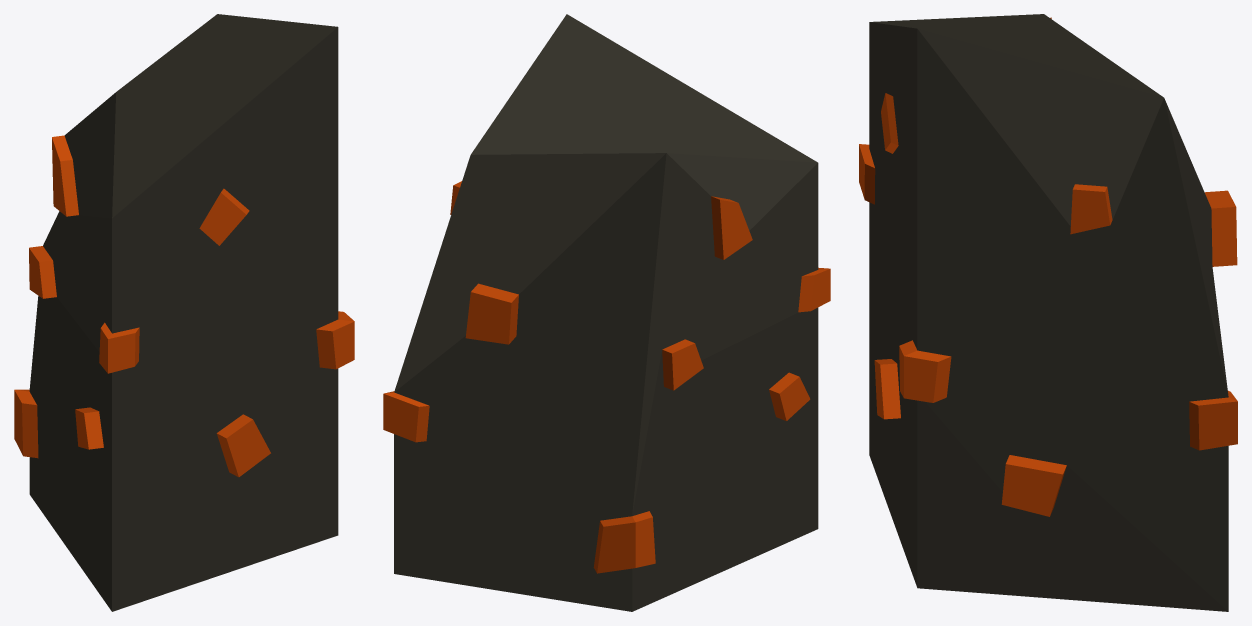
File: WarpPortal.glb
3 renders of one model, left to right at view 1: azimuth 30°, elevation 25°; view 2: azimuth 150°, elevation 25°; view 3: azimuth 270°, elevation 25°, orthographic. The views are drawn at different scales.
Visible parts, largest first — view 1: WarpPortal; view 2: WarpPortal; view 3: WarpPortal.
Boxes of the visible parts, bbox=[...] form: WarpPortal: bbox=[14, 14, 354, 611]; WarpPortal: bbox=[383, 14, 830, 611]; WarpPortal: bbox=[859, 14, 1237, 611].
Bounding box in the file's own units: 0.99 × 1.56 × 0.9572.
